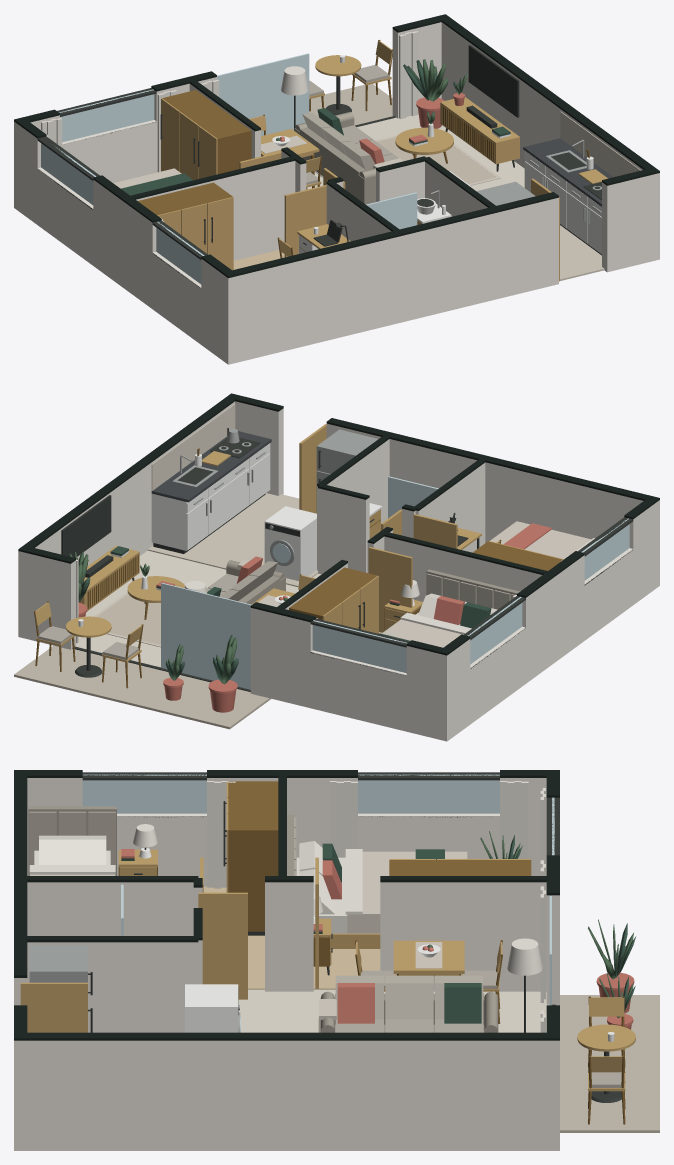
Rendered from jda-interior-tipo-a-terreo-simples.glb.
3 renders of one model, top to bottom at view 1: azimuth 30°, elevation 25°; view 2: azimuth 150°, elevation 25°; view 3: azimuth 270°, elevation 25°, orthographic. The views are drawn at different scales.
Visible parts, largest first — view 1: VIS__INTA_PAREDE, VIS__INTA_MADEIRA, VIS__INTA_VIDRO, VIS__INTA_CORTE, VIS__INTA_ESCURO, VIS__INTA_MADEIRA_ESC, VIS__INTA_BRANCO, VIS__INTA_TECIDO, VIS__INTA_TECIDO2, VIS__INTA_ESTOFADO2, VIS__INTA_ESTOFADO, VIS__INTA_PISO (+8 smaller); view 2: VIS__INTA_PAREDE, VIS__INTA_VIDRO, VIS__INTA_MADEIRA, VIS__INTA_CORTE, VIS__INTA_BRANCO, VIS__INTA_VARANDA, VIS__INTA_ESCURO, VIS__INTA_TECIDO2, VIS__INTA_MADEIRA_ESC, VIS__INTA_MOLHADO, VIS__INTA_ESTOFADO2, VIS__INTA_PISO (+8 smaller); view 3: VIS__INTA_PAREDE, VIS__INTA_CORTE, VIS__INTA_MADEIRA, VIS__INTA_TECIDO, VIS__INTA_VIDRO, VIS__INTA_MADEIRA_ESC, VIS__INTA_VARANDA, VIS__INTA_ESTOFADO2, VIS__INTA_PISO, VIS__INTA_ESCURO, VIS__INTA_TECIDO2, VIS__INTA_TERRACOTA (+6 smaller).
Part boxes in pixels (x1,y1,x2,y2): VIS__INTA_PAREDE: (14, 22, 659, 364); VIS__INTA_MADEIRA: (157, 41, 607, 281); VIS__INTA_VIDRO: (41, 53, 417, 284); VIS__INTA_CORTE: (14, 14, 659, 287); VIS__INTA_ESCURO: (37, 45, 601, 259); VIS__INTA_MADEIRA_ESC: (138, 40, 589, 258); VIS__INTA_BRANCO: (272, 55, 601, 254); VIS__INTA_TECIDO: (39, 31, 418, 221); VIS__INTA_TECIDO2: (114, 111, 640, 188); VIS__INTA_ESTOFADO2: (302, 65, 398, 184); VIS__INTA_ESTOFADO: (294, 112, 375, 204); VIS__INTA_PISO: (307, 115, 604, 280); VIS__INTA_PAREDE: (18, 401, 659, 741); VIS__INTA_VIDRO: (161, 476, 629, 689); VIS__INTA_MADEIRA: (35, 424, 563, 662); VIS__INTA_CORTE: (18, 393, 659, 675); VIS__INTA_BRANCO: (78, 443, 463, 626); VIS__INTA_VARANDA: (14, 645, 270, 729); VIS__INTA_ESCURO: (61, 428, 633, 691); VIS__INTA_TECIDO2: (94, 404, 590, 647); VIS__INTA_MADEIRA_ESC: (34, 448, 562, 688); VIS__INTA_MOLHADO: (147, 493, 317, 587); VIS__INTA_ESTOFADO2: (37, 561, 514, 659); VIS__INTA_PISO: (75, 550, 321, 667); VIS__INTA_PAREDE: (14, 778, 559, 1150); VIS__INTA_CORTE: (14, 770, 559, 1040); VIS__INTA_MADEIRA: (20, 781, 635, 1091); VIS__INTA_TECIDO: (29, 781, 545, 1032); VIS__INTA_VIDRO: (82, 774, 554, 1032); VIS__INTA_MADEIRA_ESC: (118, 781, 625, 1124); VIS__INTA_VARANDA: (560, 995, 659, 1132); VIS__INTA_ESTOFADO2: (29, 811, 624, 1087); VIS__INTA_PISO: (238, 989, 549, 1032); VIS__INTA_ESCURO: (82, 772, 621, 1102); VIS__INTA_TECIDO2: (30, 851, 467, 1032); VIS__INTA_TERRACOTA: (121, 849, 634, 1029).
Size of the model in its own units: 7.15 by 1.44 by 7.28.
